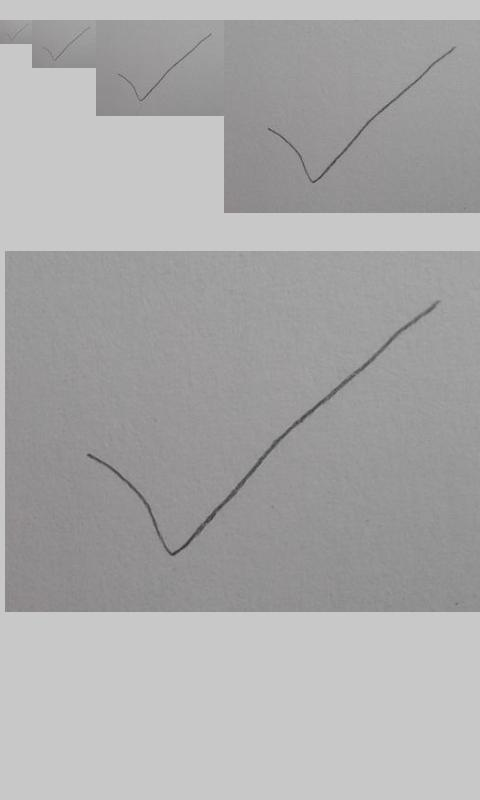check_box: (87, 301, 435, 558), (266, 46, 456, 184), (117, 33, 211, 103), (42, 27, 89, 61), (7, 24, 27, 41)
